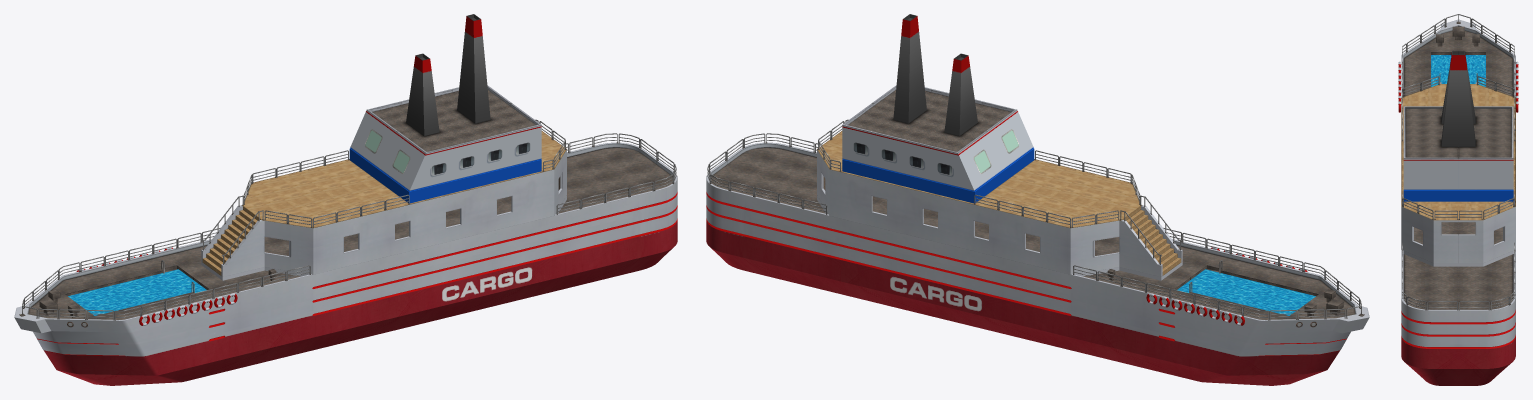
File: Cruise Ship.FBX
The picture shows the model from 3 angles, left to right: view 1: azimuth 30°, elevation 25°; view 2: azimuth 150°, elevation 25°; view 3: azimuth 270°, elevation 25°; orthographic projection. The views are drawn at different scales.
Visible parts, largest first — view 1: Line101; view 2: Line101; view 3: Line101.
Boxes of the visible parts, <box> form: Line101: <box>14,14,677,385</box>; Line101: <box>706,14,1369,385</box>; Line101: <box>1398,14,1518,385</box>.
Bounding box in the file's own units: 23816 × 9684 × 4162.
Materials: 1 (1 with a texture image).
